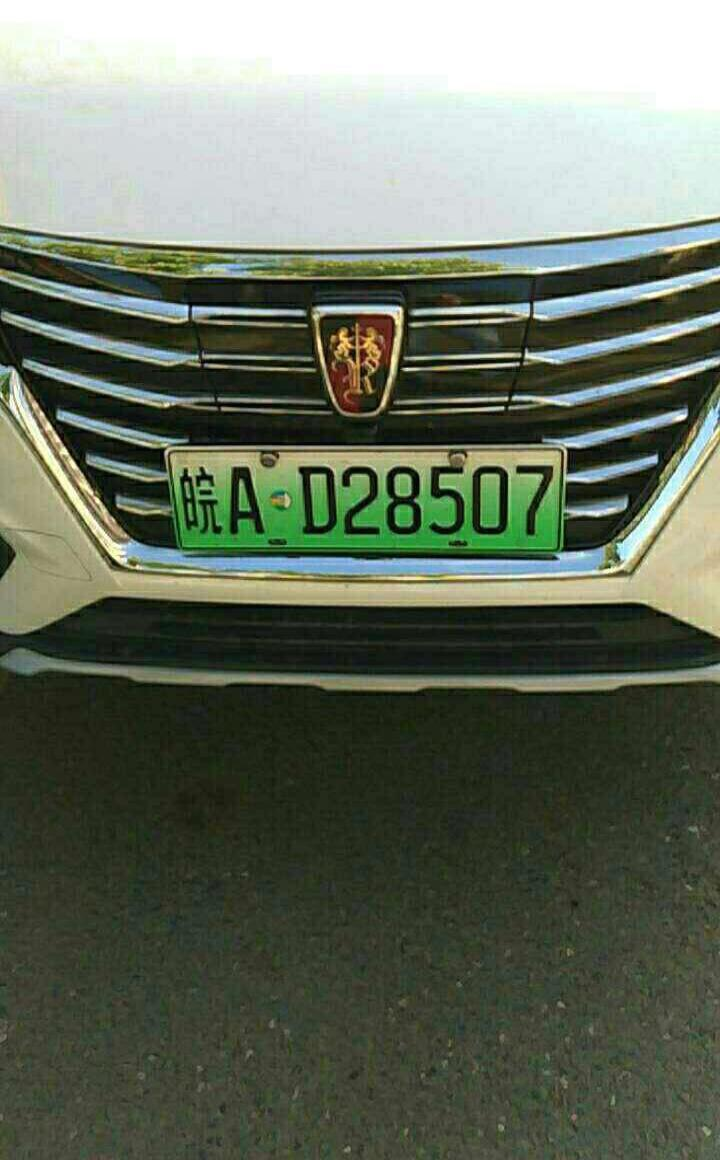car_green: (160, 436, 569, 566)
